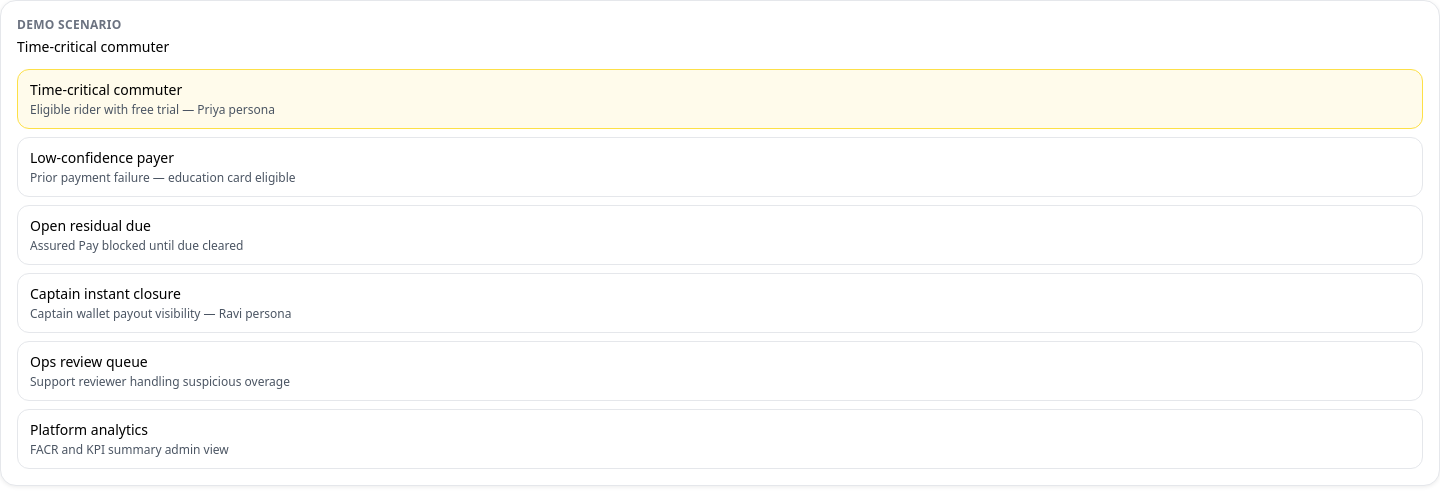
Scenario: scenario switcher rendering › updates active scenario when a scenario is selected
Click the button "Captain instant closure" at point(105, 294), box [17,273,1423,333]
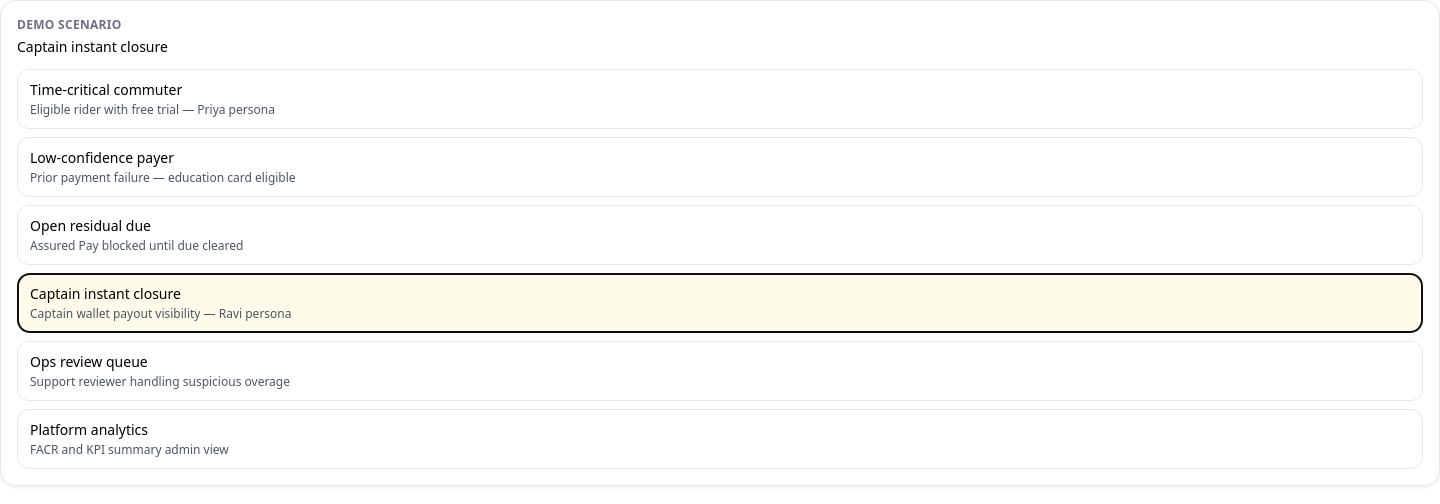
Now the text with test id "scenario-switcher-active" reads "Captain instant closure", box [17,37,168,56]
